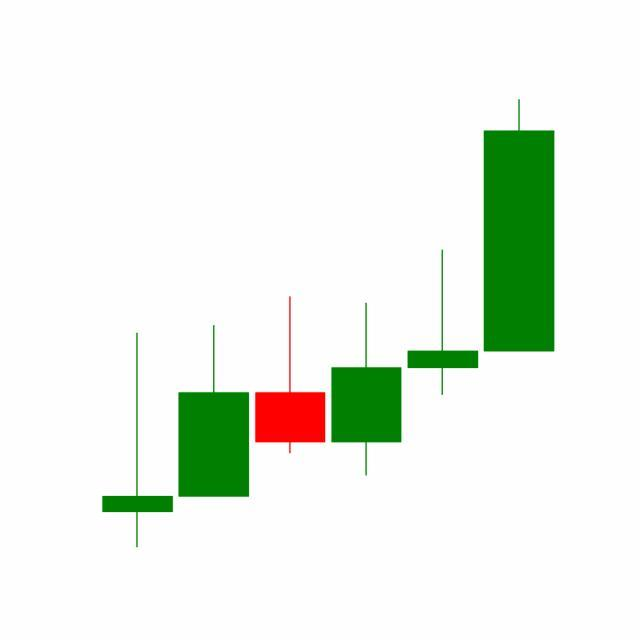Spinning Top: (404, 249, 482, 399)
